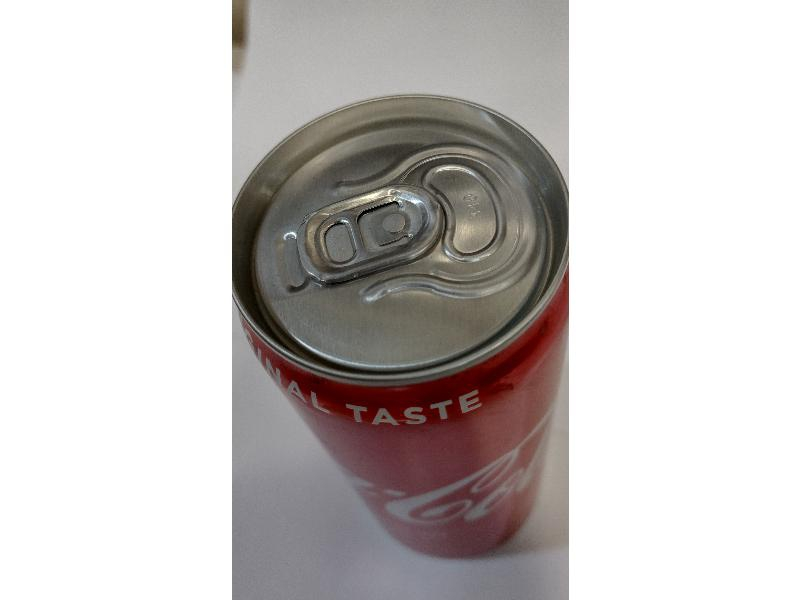can: (234, 85, 566, 558)
